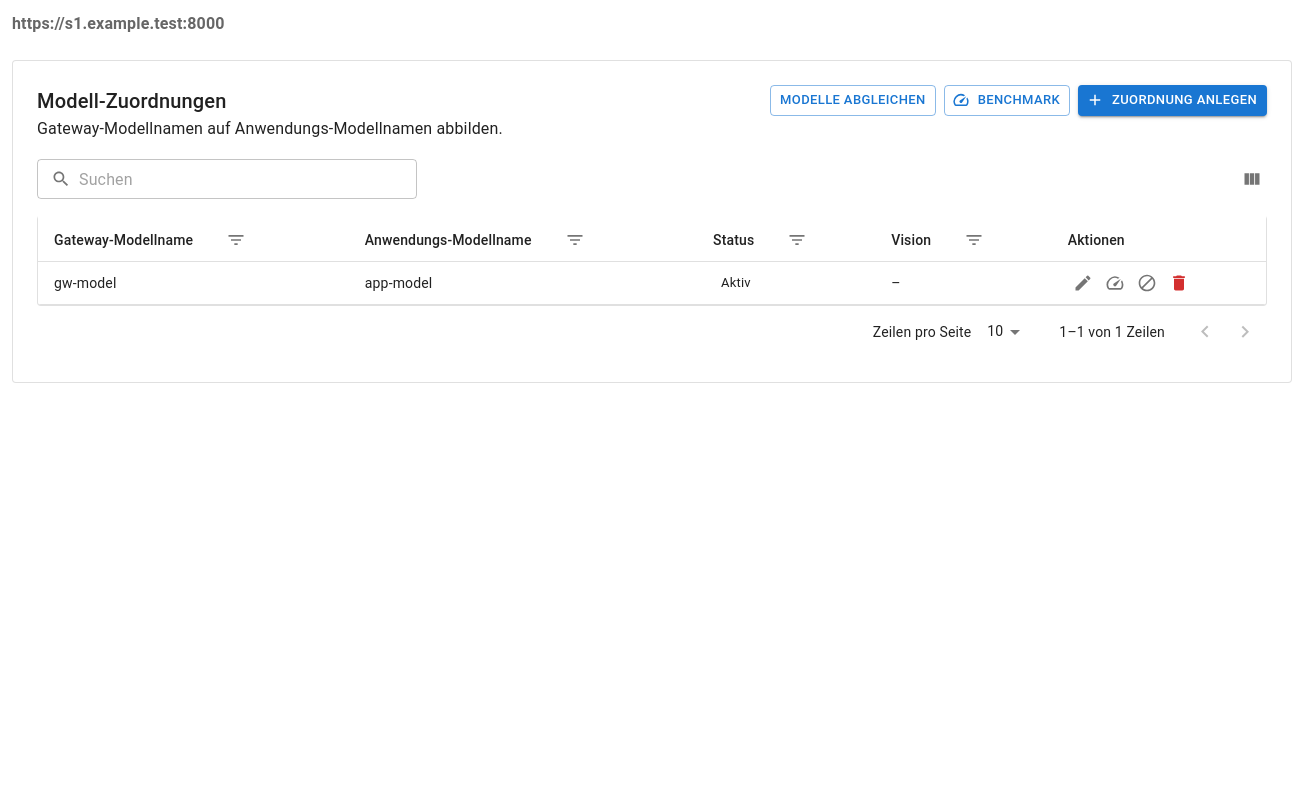
it: opens the benchmark area scoped to the mapping from the row action (no immediate run)
This screenshot has width=1304, height=812.
Check: the text "gw-model" is shown, box [38, 262, 349, 304]
Step 1. Click the button named "Benchmark" → [1115, 283], box [1100, 268, 1130, 298]
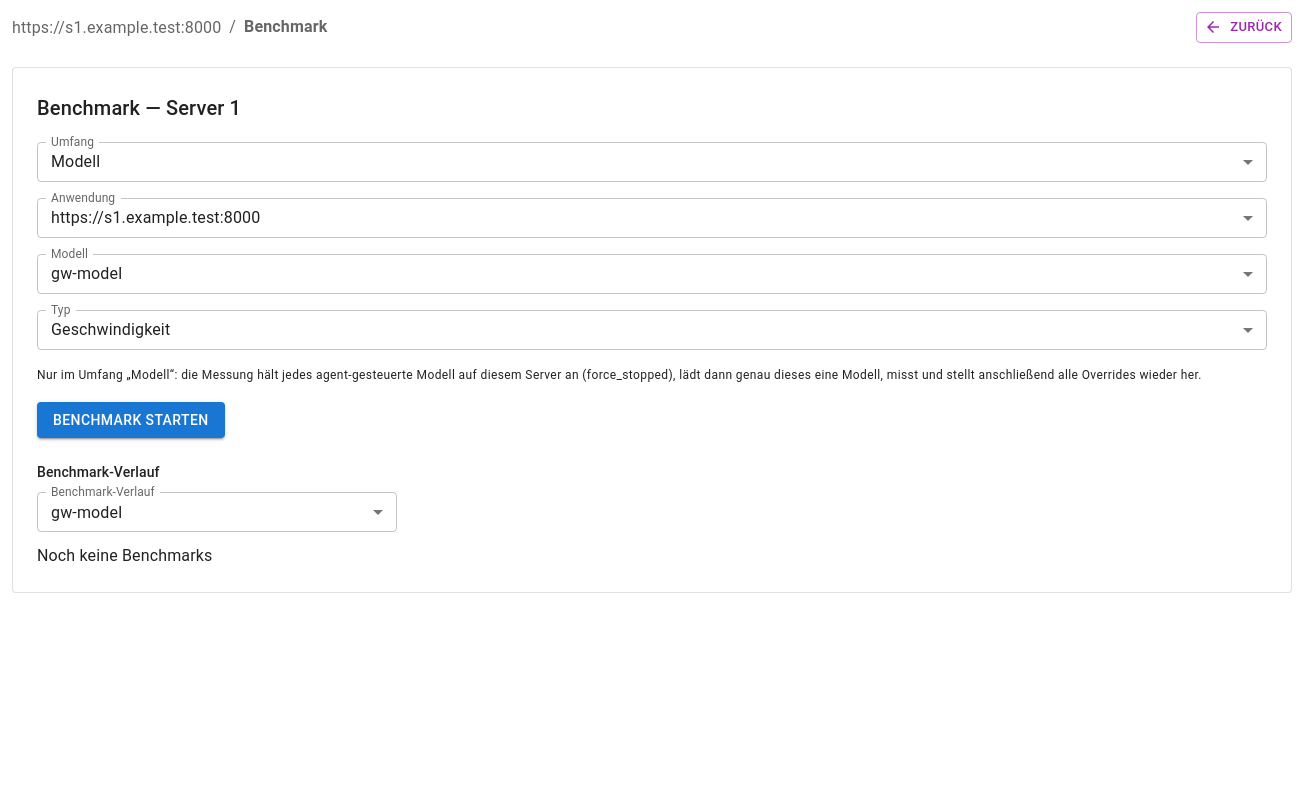
Check: the heading "Benchmark — Server 1" is shown, box [37, 92, 241, 124]
